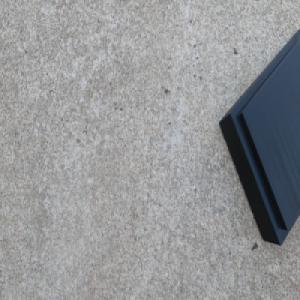PlasticPart: (216, 28, 300, 248)
